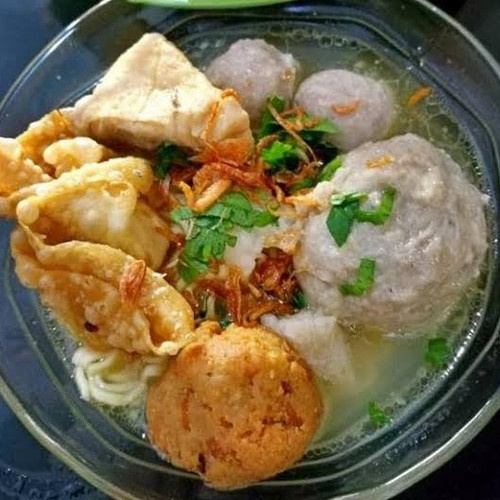bakso_malang: (1, 33, 486, 486)
